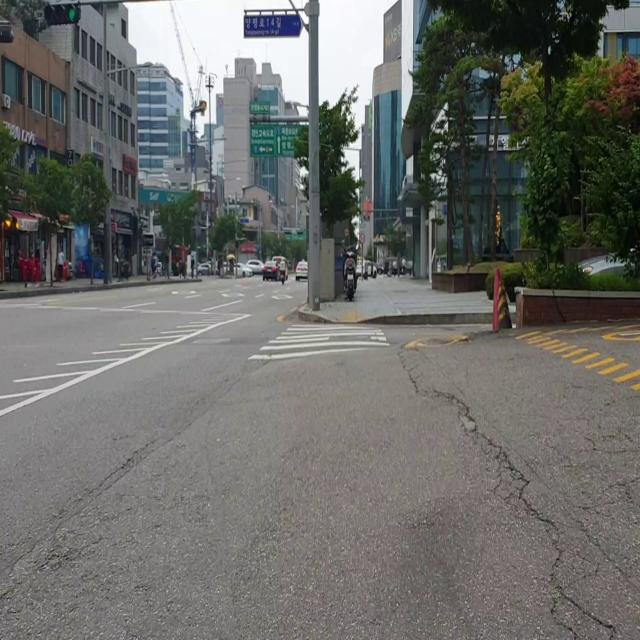횡단보도: (247, 324, 391, 361)
